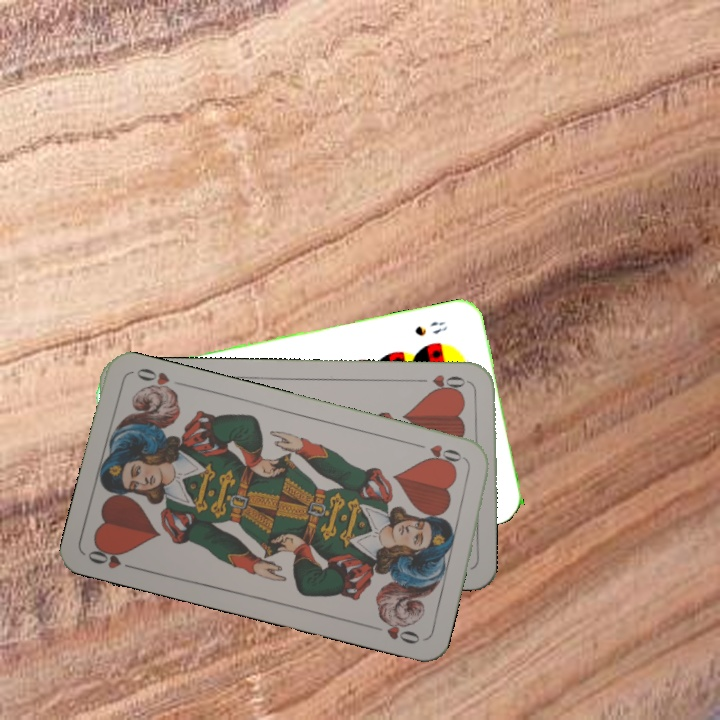HO: (83, 541, 142, 573), (411, 439, 469, 470), (413, 370, 472, 395)
S8: (411, 317, 450, 339)
